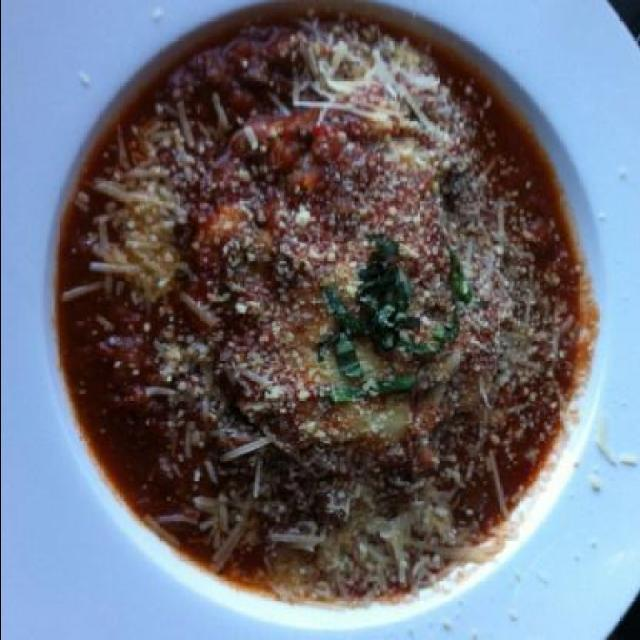Lasagna: (84, 59, 542, 630)
